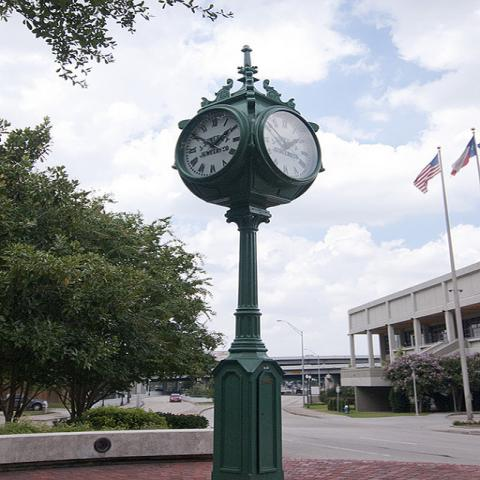car: (13, 393, 49, 412), (170, 394, 182, 402), (296, 389, 302, 394)
